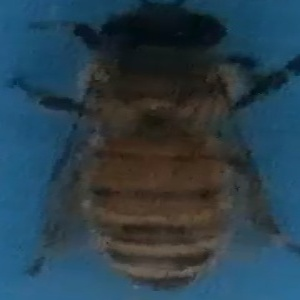bee: (13, 3, 293, 292)
